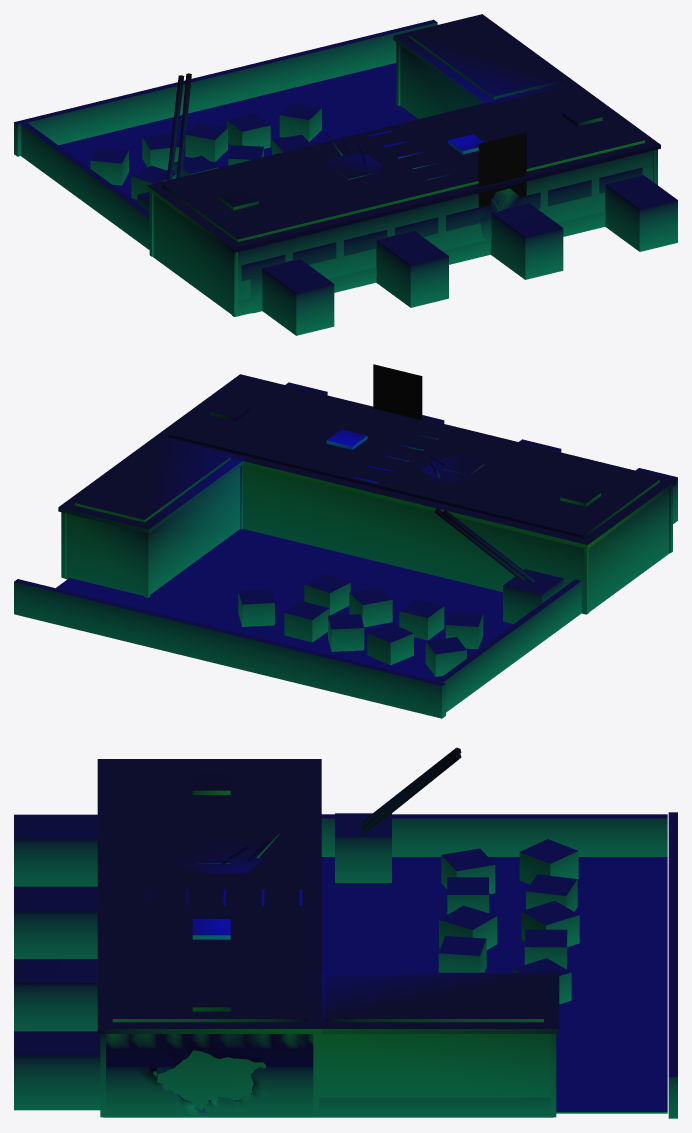
File: weaponsfacility_damaged.glb
The picture shows the model from 3 angles, top to bottom: view 1: azimuth 30°, elevation 25°; view 2: azimuth 150°, elevation 25°; view 3: azimuth 270°, elevation 25°; orthographic projection. The views are drawn at different scales.
Visible parts, largest first — view 1: lod0; view 2: lod0; view 3: lod0.
Part boxes in pixels (<box>): lod0: <box>14,14,677,335</box>; lod0: <box>14,364,677,718</box>; lod0: <box>14,747,677,1118</box>.
Size of what is drawn, in the model's own units: 33.6 by 9.14 by 34.95.
